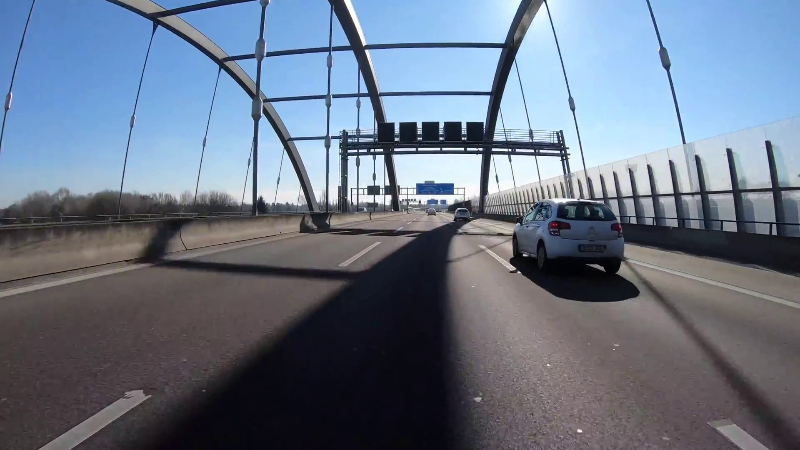Plate: (576, 243, 608, 253)
